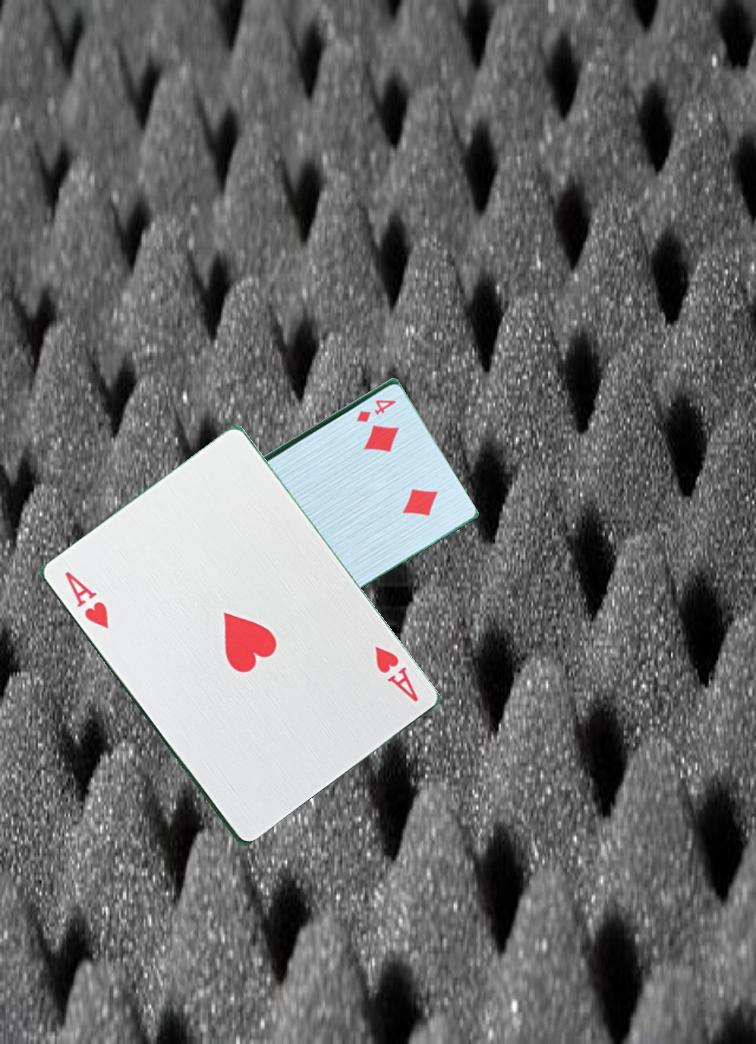4d: (353, 395, 399, 425)
ah: (61, 567, 113, 632), (372, 640, 422, 705)
